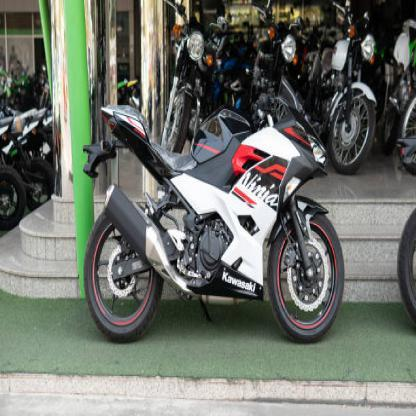Motorcycle: (84, 56, 343, 345)
